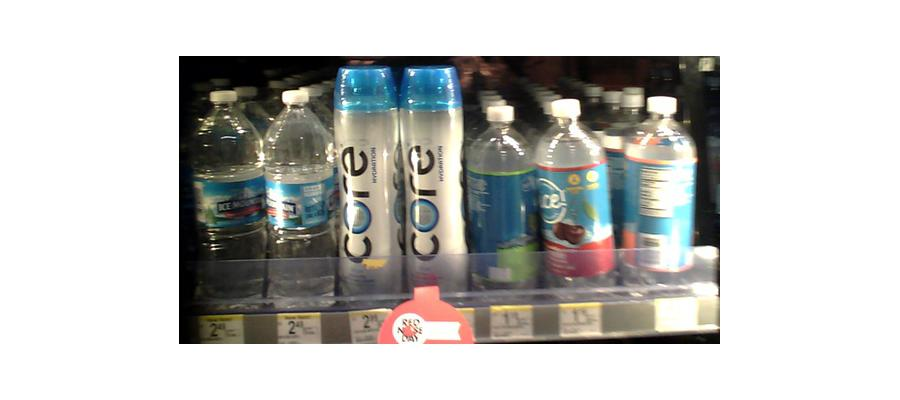bottle: (332, 65, 402, 302), (190, 89, 264, 313), (616, 94, 698, 294), (399, 63, 466, 296), (264, 85, 334, 306), (536, 98, 613, 295), (469, 102, 535, 294)
